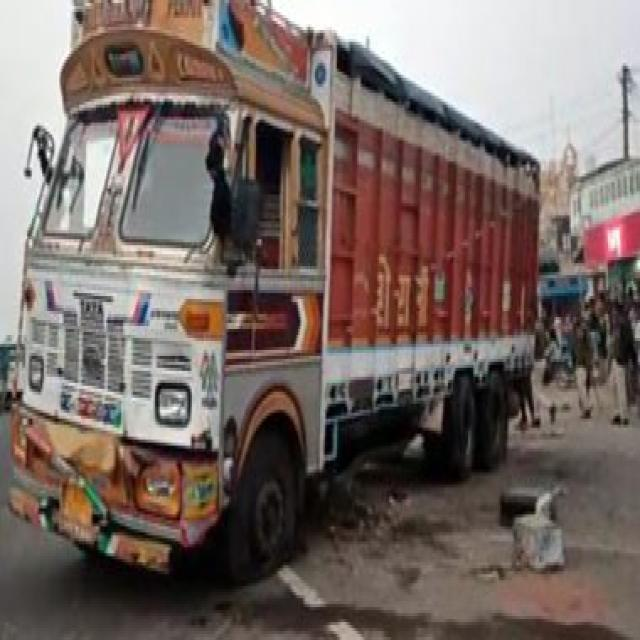truck: (10, 0, 539, 583)
